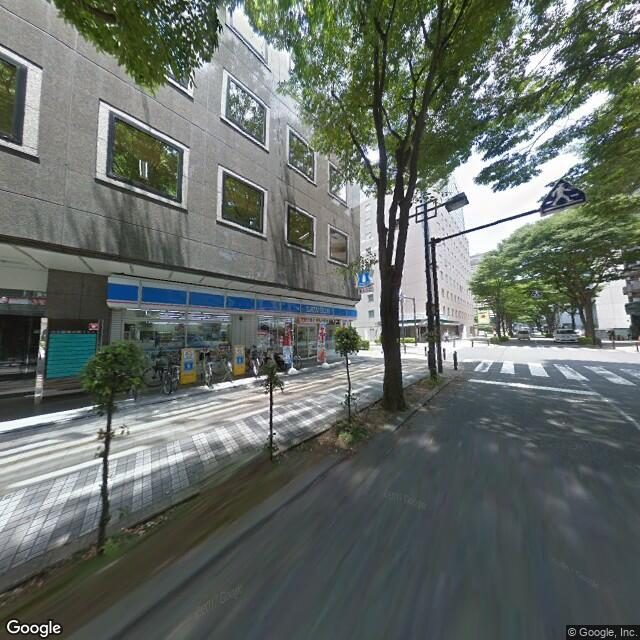lawson: (107, 273, 359, 324), (357, 264, 373, 289)
